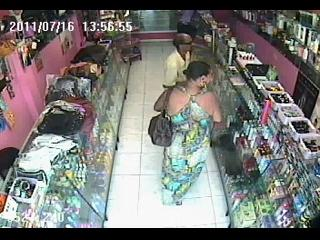Normal: (153, 61, 223, 206), (162, 33, 192, 89), (147, 87, 174, 148)
